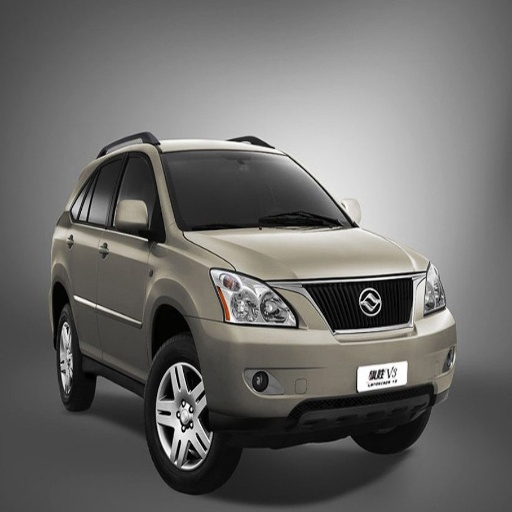back_left_light: (72, 149, 126, 356)
back_right_light: (199, 271, 456, 420)
front_bumper: (160, 150, 356, 229)
front_left_door: (418, 268, 446, 317)
front_left_light: (99, 147, 158, 371)
front_right_door: (211, 269, 301, 326)
front_right_light: (185, 227, 428, 280)
trunk: (145, 332, 245, 493), (57, 304, 94, 411), (365, 418, 426, 450)
